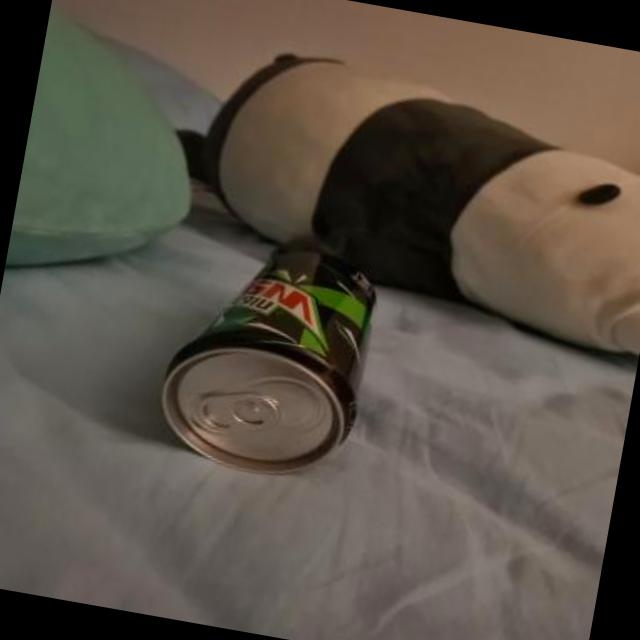metal: (165, 245, 378, 470)
